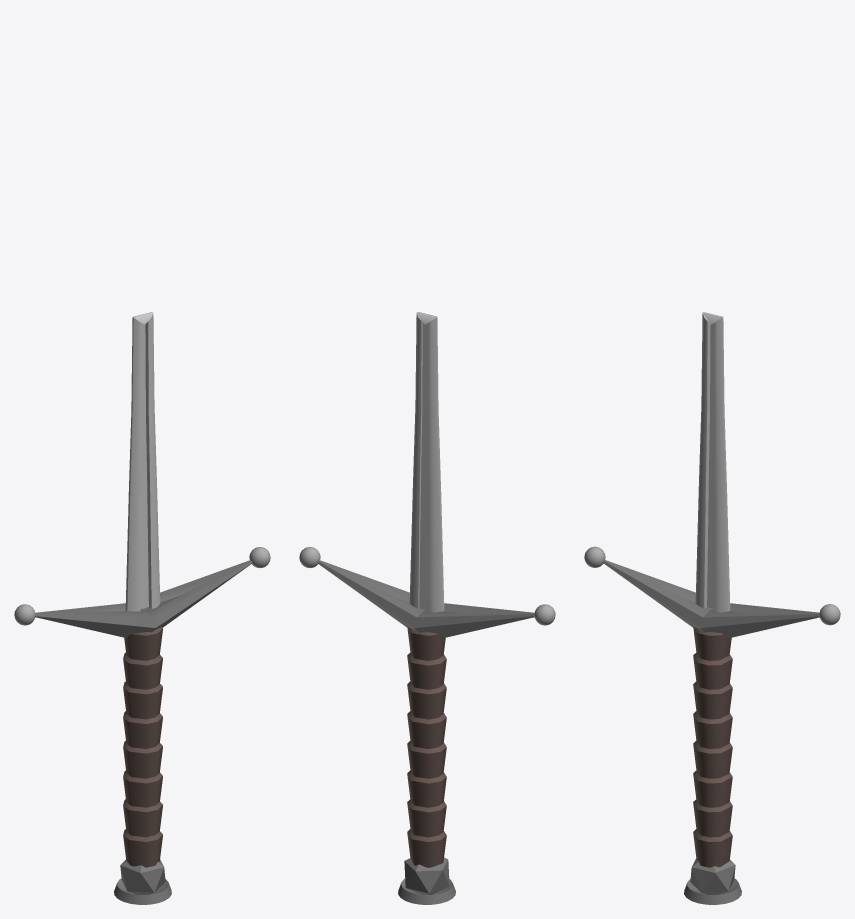
The model's file is Claymore Broken.fbx.
3 views of the same model, side by side, from view 1: azimuth 30°, elevation 25°; view 2: azimuth 150°, elevation 25°; view 3: azimuth 330°, elevation 25° (orthographic).
Visible parts, largest first — view 1: Broken_Claymore_Sword_The_Throat; view 2: Broken_Claymore_Sword_The_Throat; view 3: Broken_Claymore_Sword_The_Throat.
Boxes of the visible parts, left/top/right/bottom form: Broken_Claymore_Sword_The_Throat: left=14, top=312, right=270, bottom=904; Broken_Claymore_Sword_The_Throat: left=299, top=312, right=555, bottom=904; Broken_Claymore_Sword_The_Throat: left=584, top=312, right=840, bottom=904.
Bounding box in the file's own units: 24.55 × 82.45 × 4.89.
